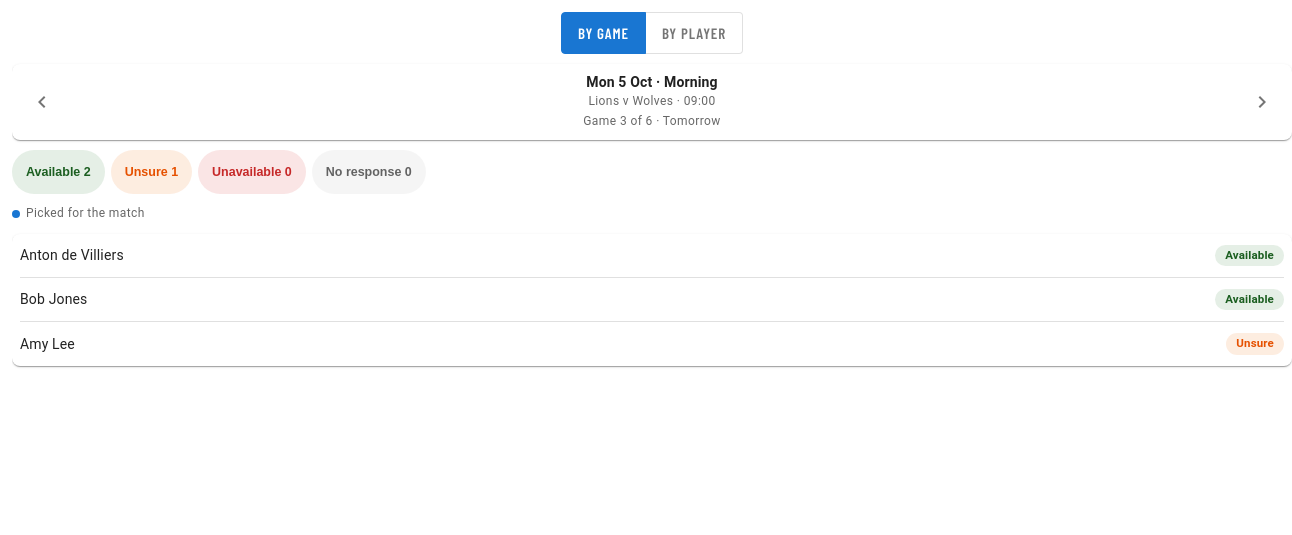
Scenario: PlayersPhoneLists › By player › expands a player to the full list of their games, and collapses it again
Click the button "By player".
click(694, 33)  # box x1=645 y1=12 x2=743 y2=54
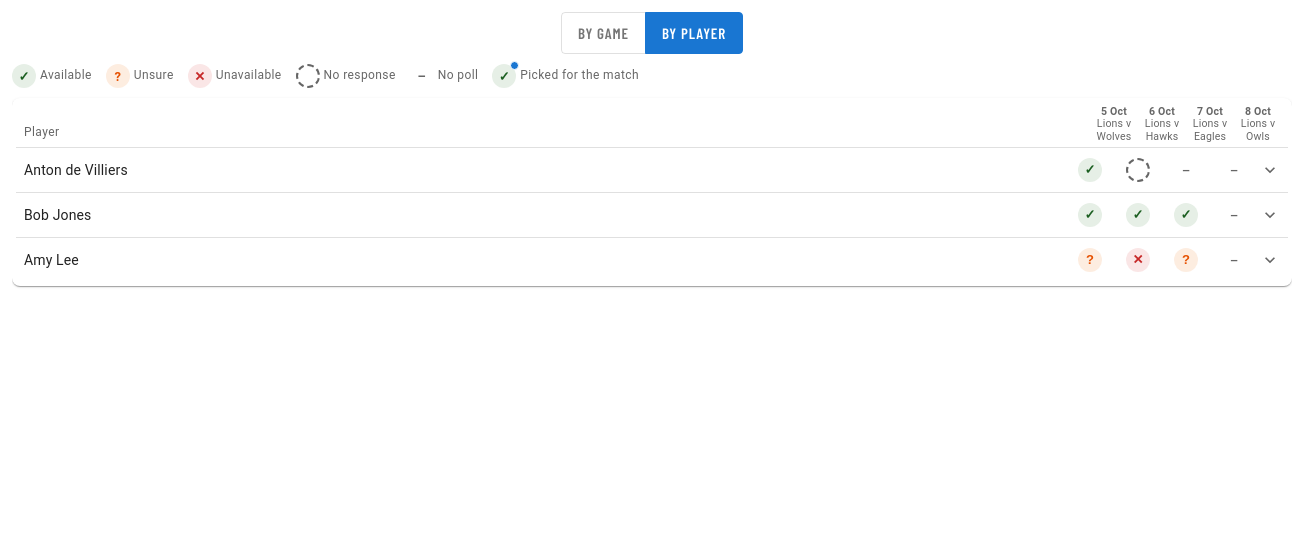
Click the button "Anton de Villiers ✓ – –".
click(76, 170)  # box x1=16 y1=148 x2=1288 y2=192
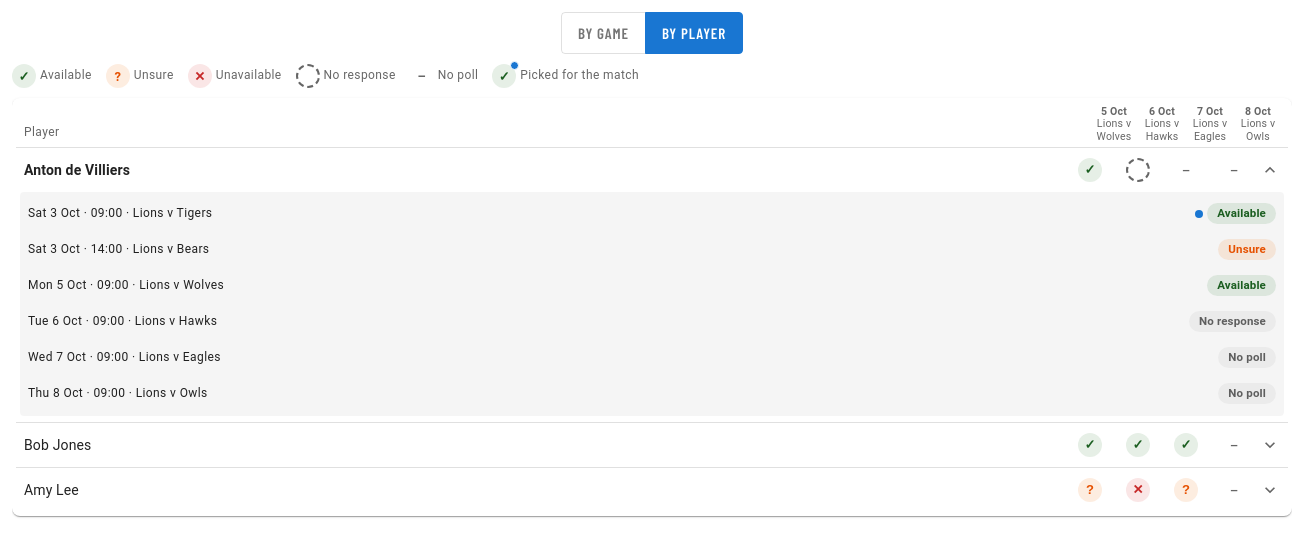
Expected: the button "Anton de Villiers ✓ – –" is expanded
Expected: the number of elements with test id "player-game" is 6, x1=28 y1=203 x2=1276 y2=224; x1=28 y1=239 x2=1276 y2=260; x1=28 y1=275 x2=1276 y2=296; x1=28 y1=311 x2=1276 y2=332; x1=28 y1=347 x2=1276 y2=368; x1=28 y1=383 x2=1276 y2=404
Expected: the element with test id "player-game" shows "Lions v Tigers", x1=133 y1=206 x2=212 y2=220
Click the button "Anton de Villiers ✓ – –".
click(77, 170)  # box x1=16 y1=148 x2=1288 y2=192
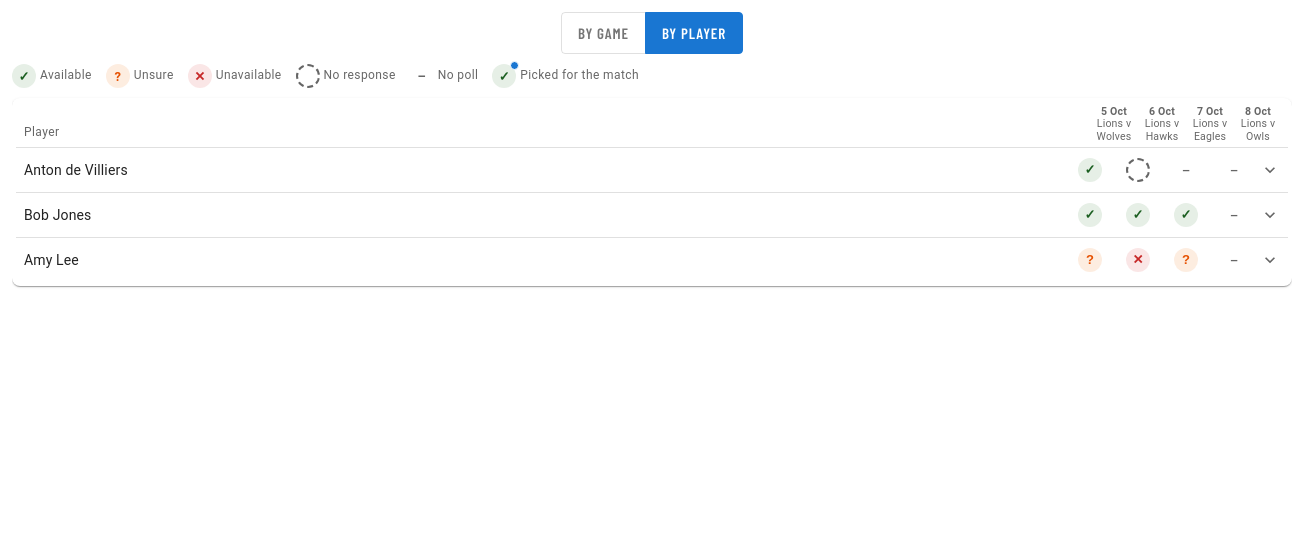
Expected: the element with test id "player-game" is gone
